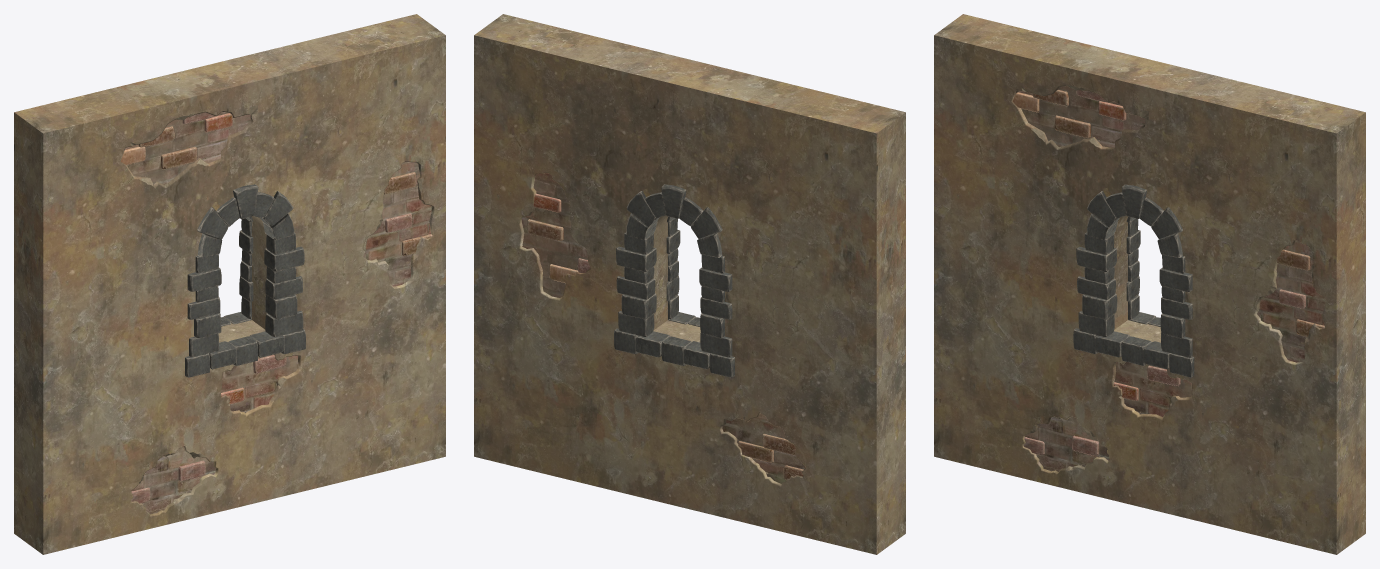
3 renders of one model, left to right at view 1: azimuth 30°, elevation 25°; view 2: azimuth 150°, elevation 25°; view 3: azimuth 330°, elevation 25°, orthographic.
Parts seen in each view (by area): view 1: SM_Human_Ruins_Window_01_LOD0; view 2: SM_Human_Ruins_Window_01_LOD0; view 3: SM_Human_Ruins_Window_01_LOD0.
Boxes of the visible parts, bbox=[...] form: SM_Human_Ruins_Window_01_LOD0: bbox=[14, 14, 445, 554]; SM_Human_Ruins_Window_01_LOD0: bbox=[474, 14, 905, 554]; SM_Human_Ruins_Window_01_LOD0: bbox=[934, 14, 1365, 554].
Size of the model in its own units: 4 by 4 by 0.6303.
4 materials, 4 textured.
